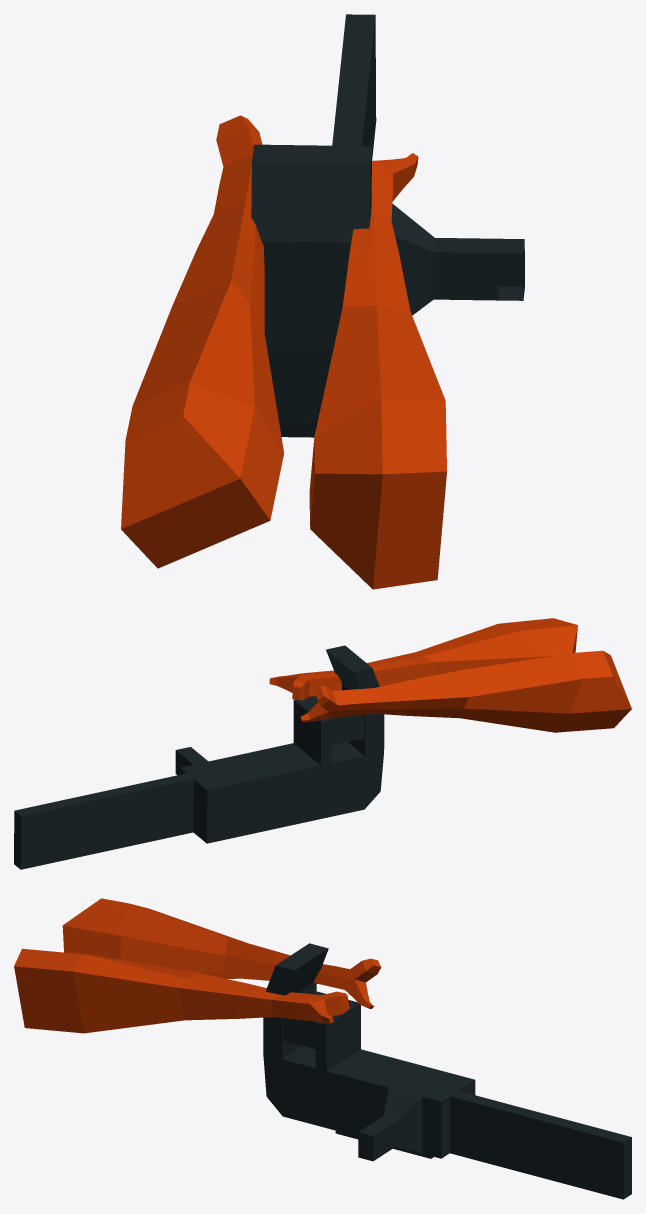
Rendered from arme_000066.obj.
The picture shows the model from 3 angles, top to bottom: view 1: azimuth 30°, elevation 25°; view 2: azimuth 150°, elevation 25°; view 3: azimuth 270°, elevation 25°; orthographic projection. The views are drawn at different scales.
Visible parts, largest first — view 1: Cube.048_Cube.024, Cube.047_Cube.022, Cube.046_Cube.010; view 2: Cube.046_Cube.010, Cube.048_Cube.024, Cube.047_Cube.022; view 3: Cube.046_Cube.010, Cube.047_Cube.022, Cube.048_Cube.024.
Part boxes in pixels (x1,y1,x2,y2): Cube.048_Cube.024: [121, 115, 283, 568]; Cube.047_Cube.022: [309, 153, 446, 589]; Cube.046_Cube.010: [251, 14, 524, 437]; Cube.046_Cube.010: [14, 645, 384, 869]; Cube.048_Cube.024: [300, 650, 631, 732]; Cube.047_Cube.022: [269, 618, 577, 700]; Cube.046_Cube.010: [263, 943, 631, 1199]; Cube.047_Cube.022: [14, 948, 349, 1033]; Cube.048_Cube.024: [62, 898, 381, 1008].
Size of the model in its own units: 1603 by 618 by 2171.
